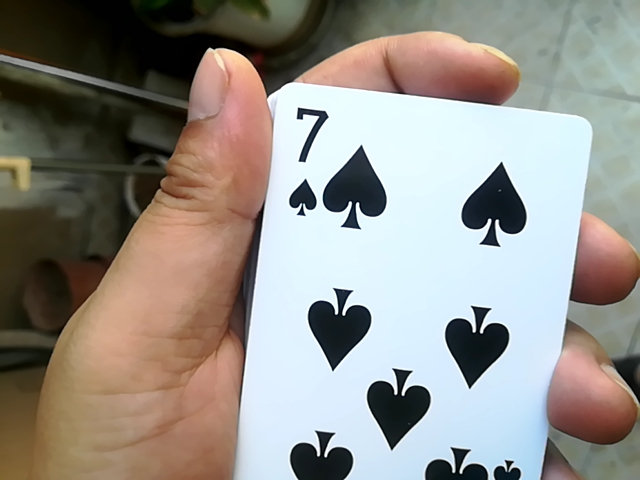ht 7: (219, 88, 585, 470)
